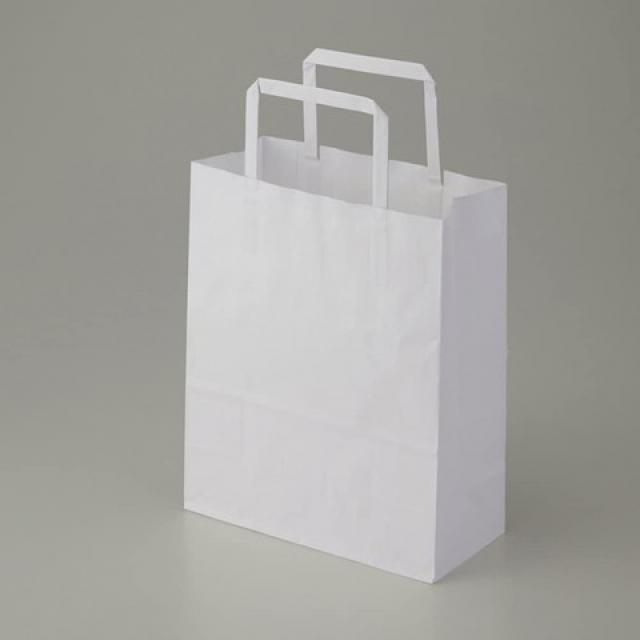paper bag: (171, 42, 510, 590)
